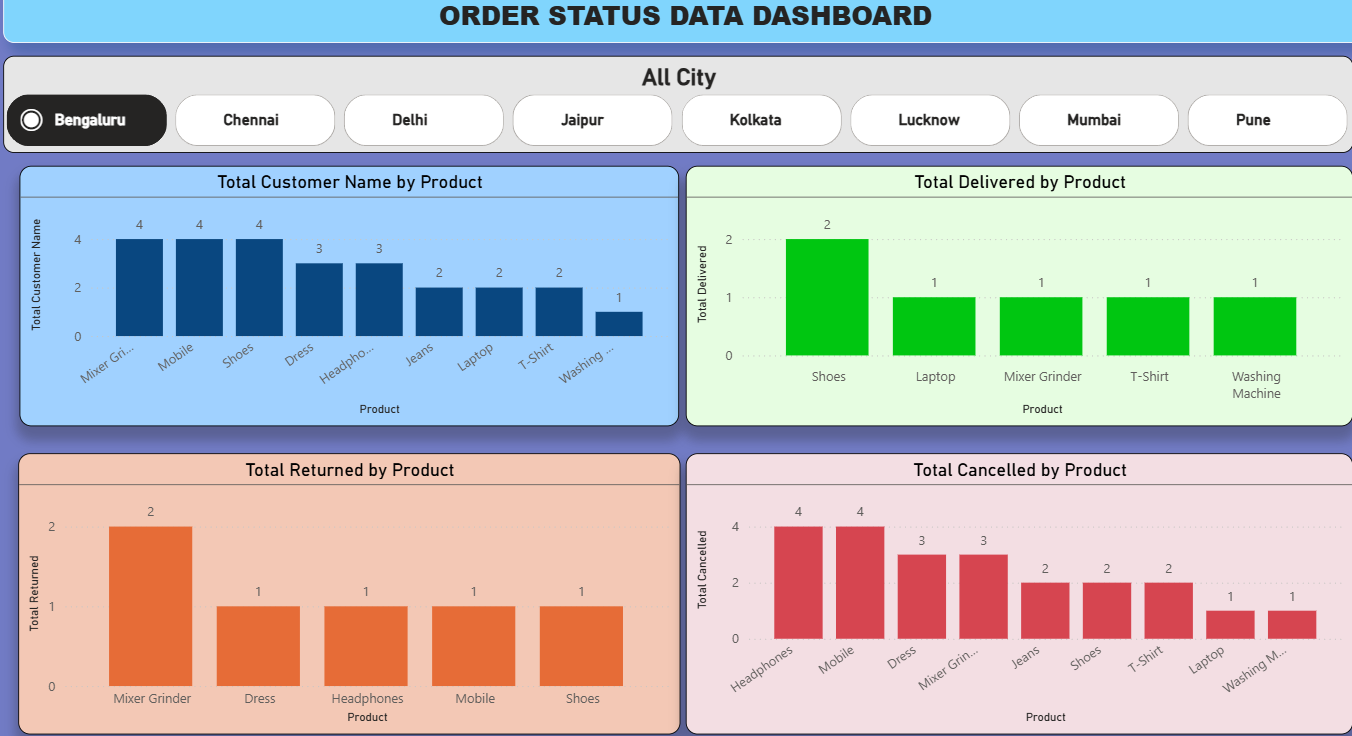

The page's visual inventory and layout, read from the dashboard file:
{"tool":"powerbi","page":{"name":"Page 2","canvas":[1280,720],"ordinal":1},"visuals":[{"type":"textbox","box":[10.2,0,1269.8,52.3],"z":0},{"type":"clusteredColumnChart","fields":{"Category":["EcommerceData.Product"],"Y":["EcommerceData.Total Shipped"]},"box":[25.5,165.7,613.2,242.2],"z":1000},{"type":"clusteredColumnChart","fields":{"Category":["EcommerceData.Product"],"Y":["EcommerceData.Total Returned"]},"box":[24.2,433.5,615.8,261.4],"z":2000},{"type":"advancedSlicerVisual","title":"All City ","fields":{"Values":["EcommerceData.City"]},"box":[10.2,63.7,1255.8,90.5],"z":3000},{"type":"clusteredColumnChart","fields":{"Category":["EcommerceData.Product"],"Y":["EcommerceData.Total Delivered"]},"box":[645.1,165.7,620.9,242.2],"z":4000},{"type":"clusteredColumnChart","fields":{"Category":["EcommerceData.Product"],"Y":["EcommerceData.Total Cancelled"]},"box":[645.1,433.5,620.9,261.4],"z":5000}]}

Visuals, with their boxes on the page's 1280x720 design canvas (x1, y1, x2, y2). These are canvas units, not pixel positions in the 1352x736 screenshot, which may show the page scaled, cropped or inside an application window:
textbox: pyautogui.locateOnScreen(10, 0, 1280, 52)
clusteredColumnChart - EcommerceData.Product x EcommerceData.Total Shipped: pyautogui.locateOnScreen(26, 166, 639, 408)
clusteredColumnChart - EcommerceData.Product x EcommerceData.Total Returned: pyautogui.locateOnScreen(24, 434, 640, 695)
"All City " advancedSlicerVisual: pyautogui.locateOnScreen(10, 64, 1266, 154)
clusteredColumnChart - EcommerceData.Product x EcommerceData.Total Delivered: pyautogui.locateOnScreen(645, 166, 1266, 408)
clusteredColumnChart - EcommerceData.Product x EcommerceData.Total Cancelled: pyautogui.locateOnScreen(645, 434, 1266, 695)
